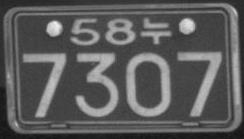0: (125, 50, 171, 118)
3: (75, 51, 119, 118)
5: (70, 17, 100, 45)
7: (176, 50, 222, 116), (22, 51, 67, 118)
8: (104, 17, 137, 45)
누: (140, 16, 171, 44)
